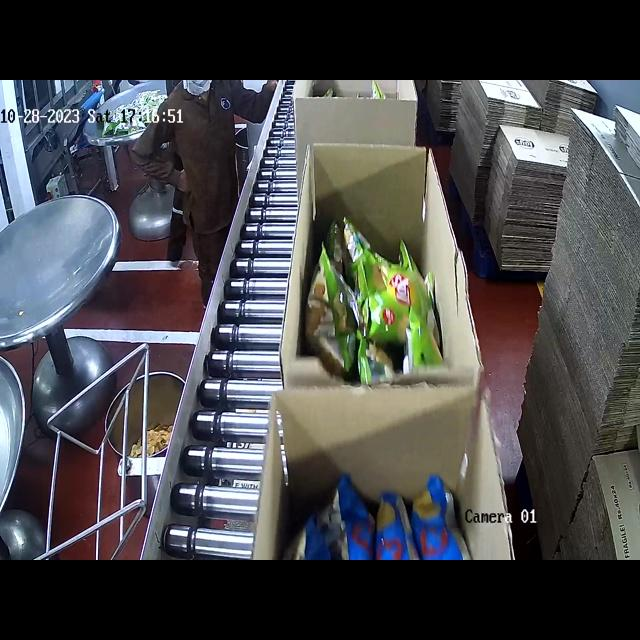paprika: (294, 477, 461, 560)
yogurt: (304, 215, 444, 384)
